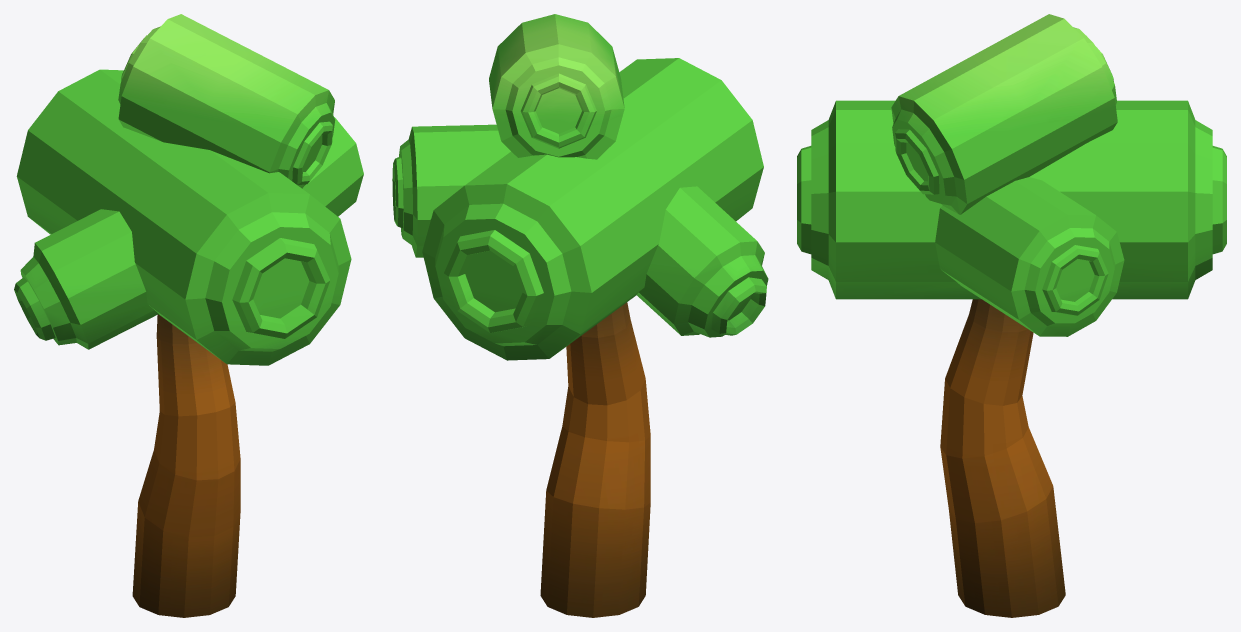
File: quaternius-textured-fantasy-nature-tree.glb
3 views of the same model, side by side, from view 1: azimuth 30°, elevation 25°; view 2: azimuth 150°, elevation 25°; view 3: azimuth 270°, elevation 25° (orthographic). The views are drawn at different scales.
Visible parts, largest first — view 1: Tree; view 2: Tree; view 3: Tree.
Part boxes in pixels (bbox=[...]): Tree: bbox=[14, 14, 363, 617]; Tree: bbox=[392, 14, 768, 617]; Tree: bbox=[797, 14, 1226, 617].
Size of the model in its own units: 2.58 by 4 by 2.68.
Materials: 1 (1 with a texture image).
